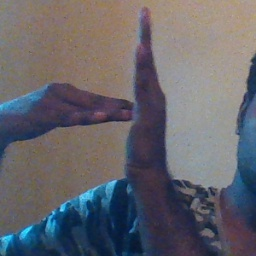Z: (68, 6, 180, 178)
